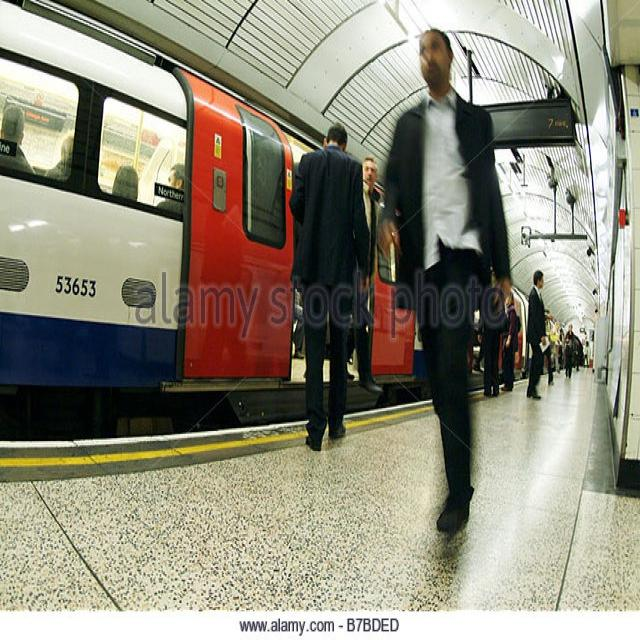body: (372, 23, 516, 535), (0, 67, 190, 225), (287, 122, 372, 458), (346, 154, 385, 396), (472, 278, 501, 399), (524, 266, 546, 399), (499, 285, 521, 391), (284, 275, 307, 374), (542, 306, 563, 388), (563, 322, 575, 377), (573, 331, 583, 378), (582, 340, 591, 370)
